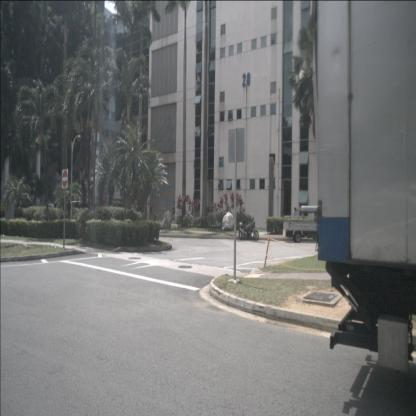human-pedestrian-adult: (292, 207, 298, 228)
vehicle-motorcycle: (239, 216, 259, 240)
vehicle-truck: (317, 0, 415, 374), (282, 205, 328, 242)
